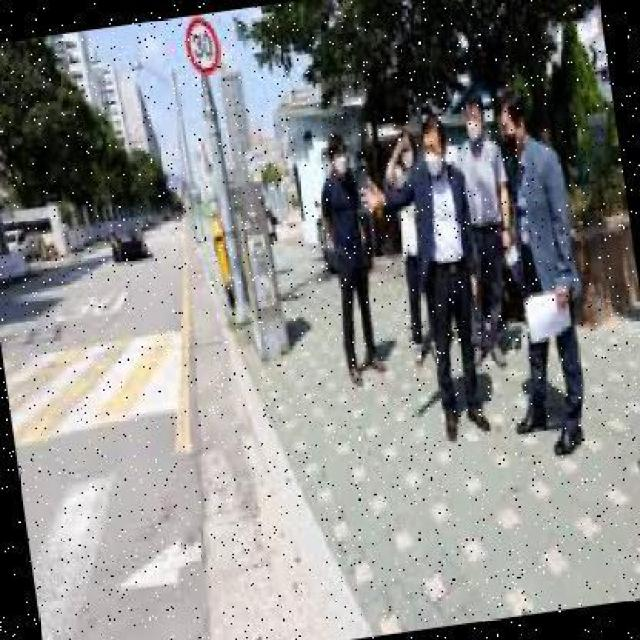Person: (474, 85, 600, 462), (399, 119, 501, 442), (440, 95, 531, 362), (314, 131, 389, 383), (383, 130, 448, 361)
